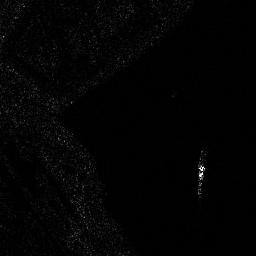ship: (197, 161, 206, 194)
